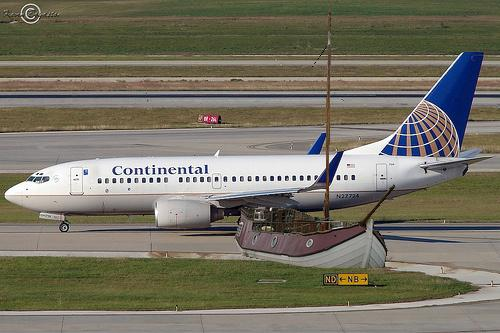tampered: (235, 10, 395, 268)
